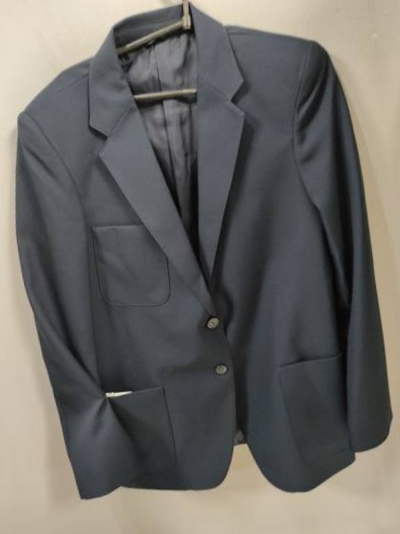Blazer: (0, 0, 400, 520), (385, 0, 400, 474), (0, 44, 12, 534)
